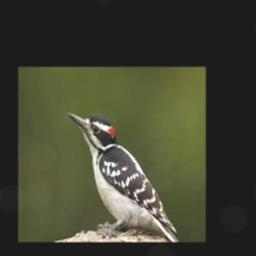Woodpecker: (67, 111, 179, 242)
